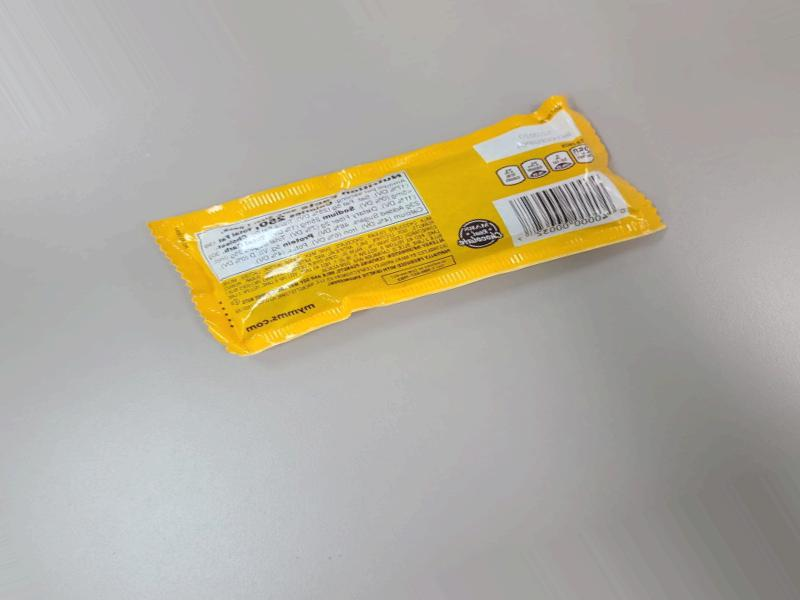m&m: (168, 95, 681, 366)
